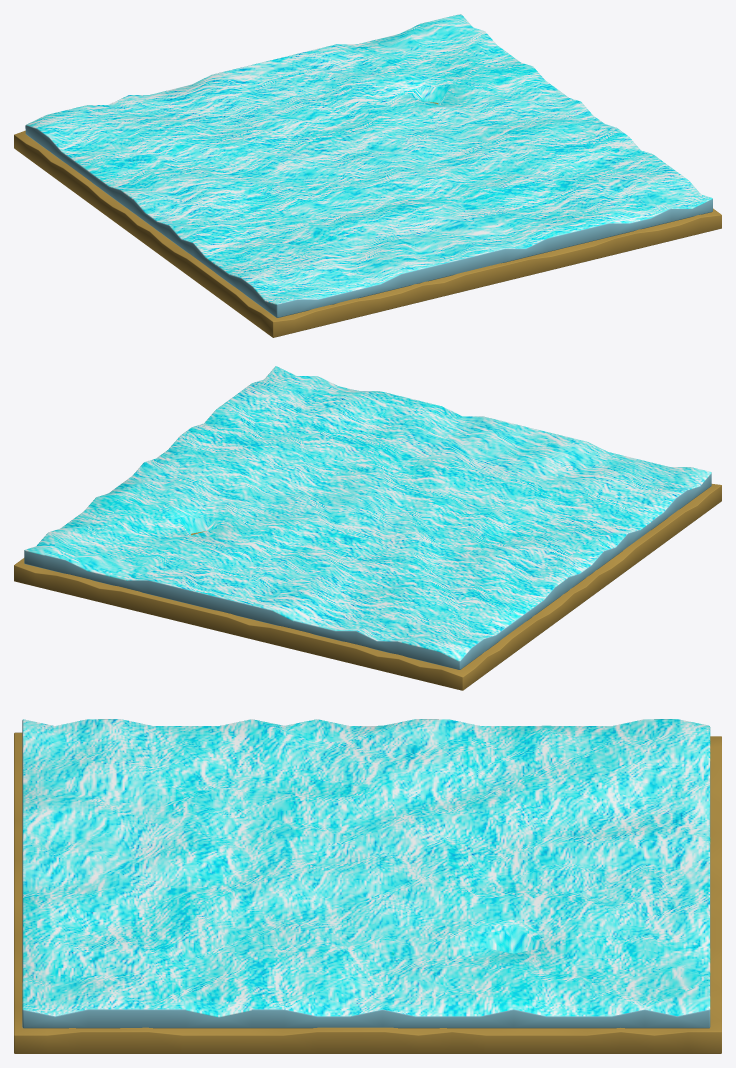
Rendered from water-rise7.glb.
3 renders of one model, top to bottom at view 1: azimuth 30°, elevation 25°; view 2: azimuth 150°, elevation 25°; view 3: azimuth 270°, elevation 25°, orthographic. The views are drawn at different scales.
Parts seen in each view (by area): view 1: Sea, Sand; view 2: Sea, Sand; view 3: Sea, Sand.
Part boxes in pixels (x1,y1,x2,y2): Sea: [25, 14, 712, 317]; Sand: [14, 101, 721, 337]; Sea: [24, 366, 711, 669]; Sand: [14, 484, 721, 690]; Sea: [22, 719, 710, 1028]; Sand: [14, 732, 721, 1053].
Size of the model in its own units: 107 by 6.87 by 107.
Materials: 3 (1 with a texture image).
